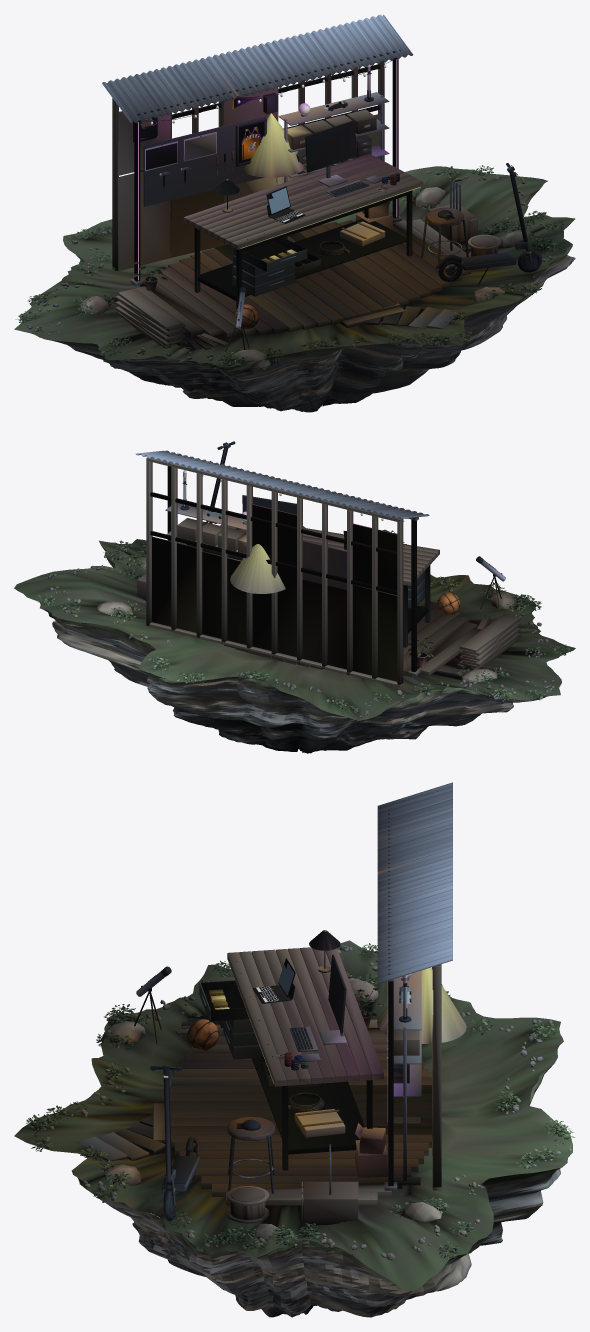
File: flight-projects-69732db1.glb
3 views of the same model, one above another, from view 1: azimuth 30°, elevation 25°; view 2: azimuth 150°, elevation 25°; view 3: azimuth 270°, elevation 25° (orthographic). The views are drawn at different scales.
Visible parts, largest first — view 1: Projects island · flight.001; view 2: Projects island · flight.001; view 3: Projects island · flight.001.
Part boxes in pixels (bbox=[...]): Projects island · flight.001: bbox=[14, 14, 575, 412]; Projects island · flight.001: bbox=[14, 441, 575, 753]; Projects island · flight.001: bbox=[14, 782, 575, 1317].
Size of the model in its own units: 12.7 by 7.16 by 8.69.
